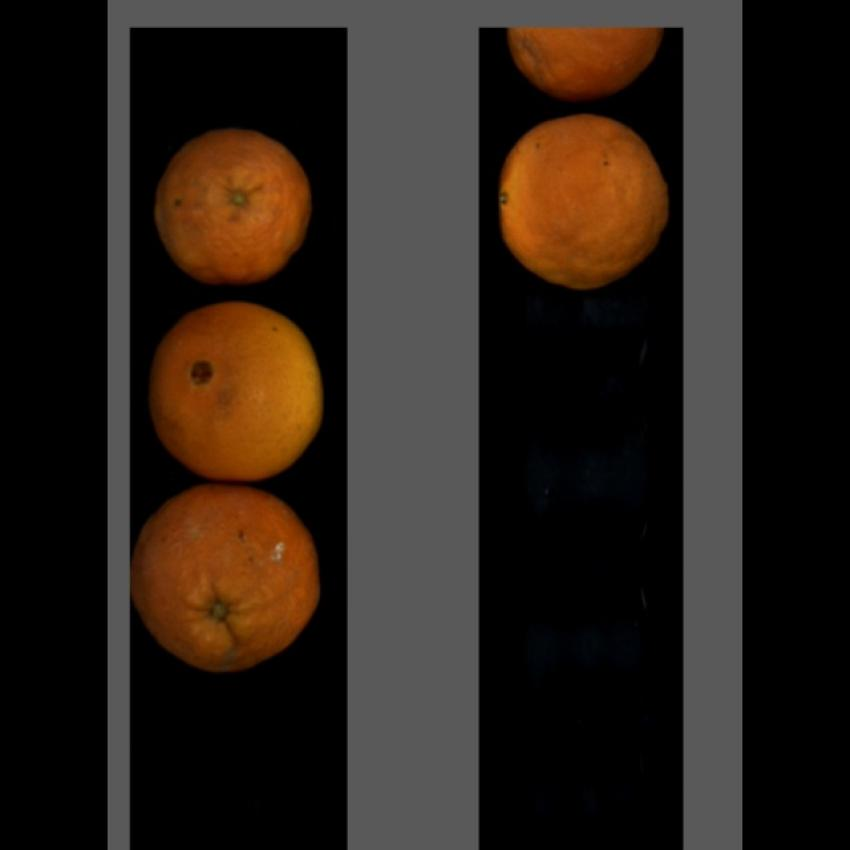Buen estado: (145, 298, 323, 488)
Mal estado: (133, 482, 327, 680), (496, 109, 674, 297), (151, 126, 317, 288), (507, 28, 671, 98)
